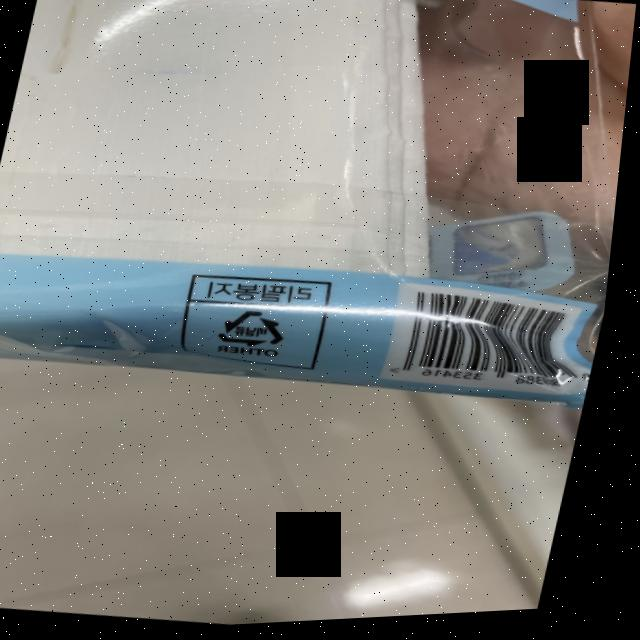Vinyl: (220, 306, 299, 355)
